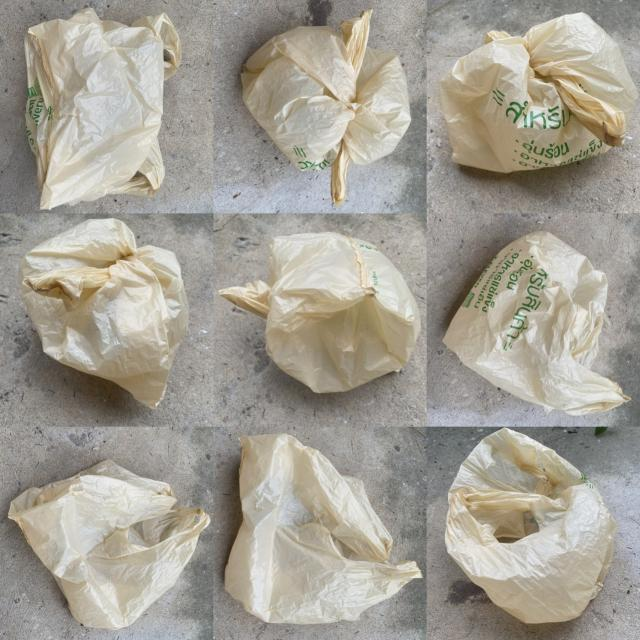Single-layer Plastic: (225, 435, 421, 623), (442, 231, 629, 415), (9, 460, 210, 629), (241, 9, 411, 206), (445, 428, 616, 622), (220, 232, 421, 392), (19, 219, 189, 408), (440, 12, 638, 172), (25, 8, 181, 208)
